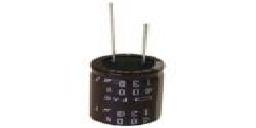Electrolytic-Capacitor: (84, 1, 170, 122)
